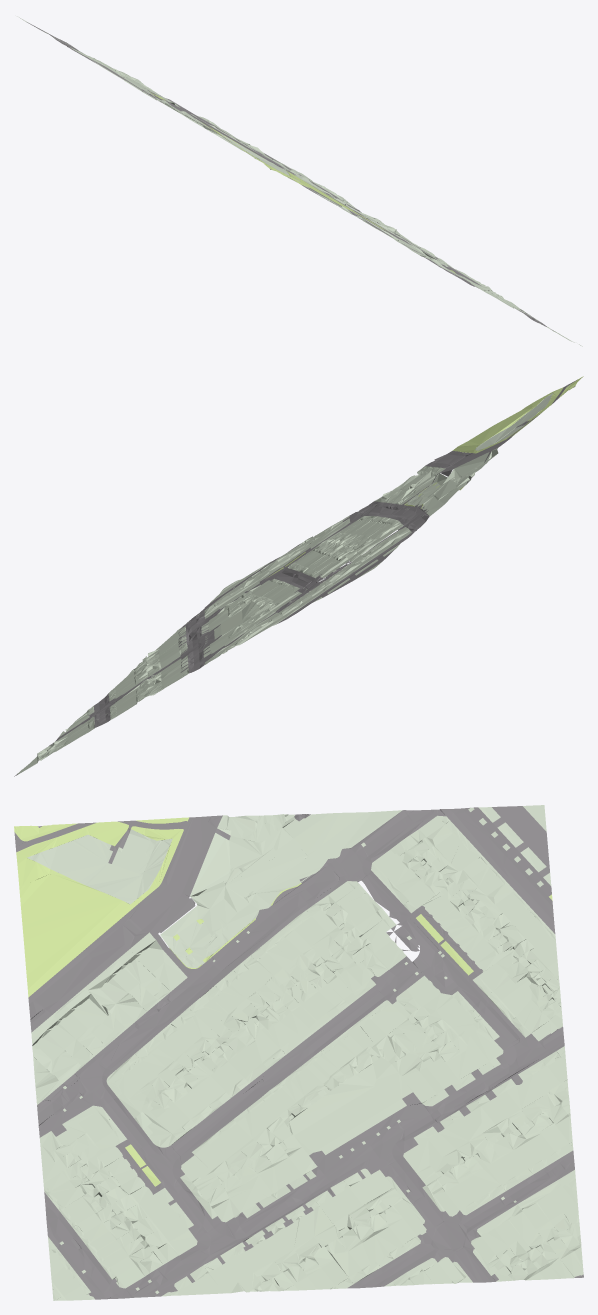
3 views of the same model, one above another, from view 1: azimuth 30°, elevation 25°; view 2: azimuth 150°, elevation 25°; view 3: azimuth 270°, elevation 25° (orthographic). The views are drawn at different scales.
Bounding box in the file's own units: 219 × 157 × 267.
